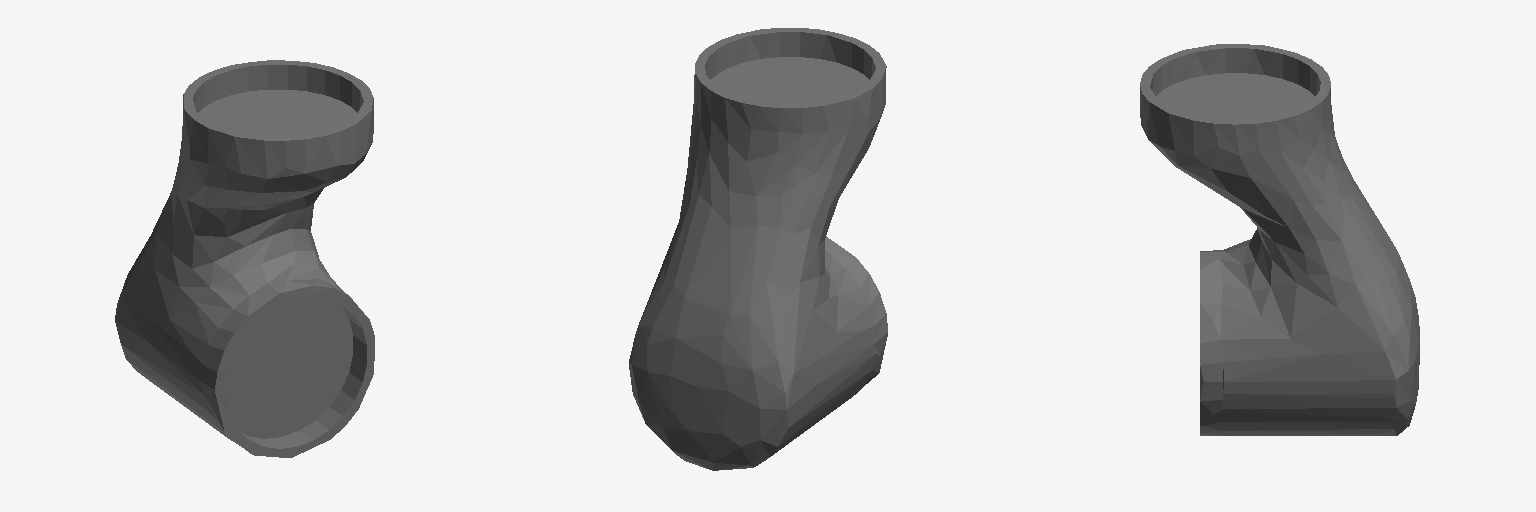
File: dual_rm_75b_description_r_link3_collisions_r_link3_mesh.obj
3 renders of one model, left to right at view 1: azimuth 30°, elevation 25°; view 2: azimuth 150°, elevation 25°; view 3: azimuth 270°, elevation 25°, orthographic.
Size of the model in its own units: 0.0697 by 0.1376 by 0.1017.